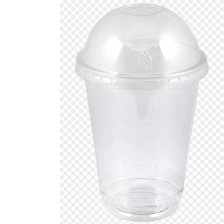glass: (70, 1, 212, 224)
